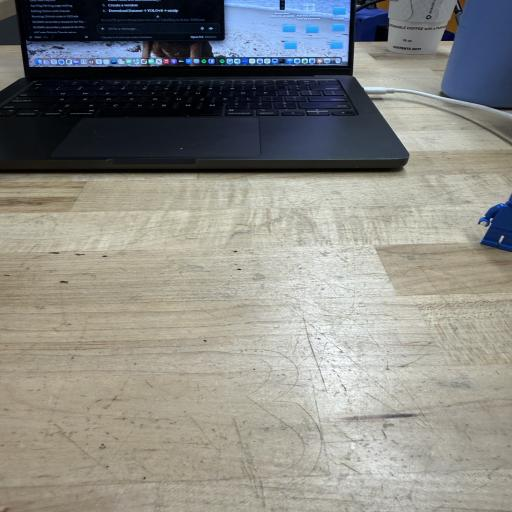blue-minifig: (479, 194, 512, 252)
